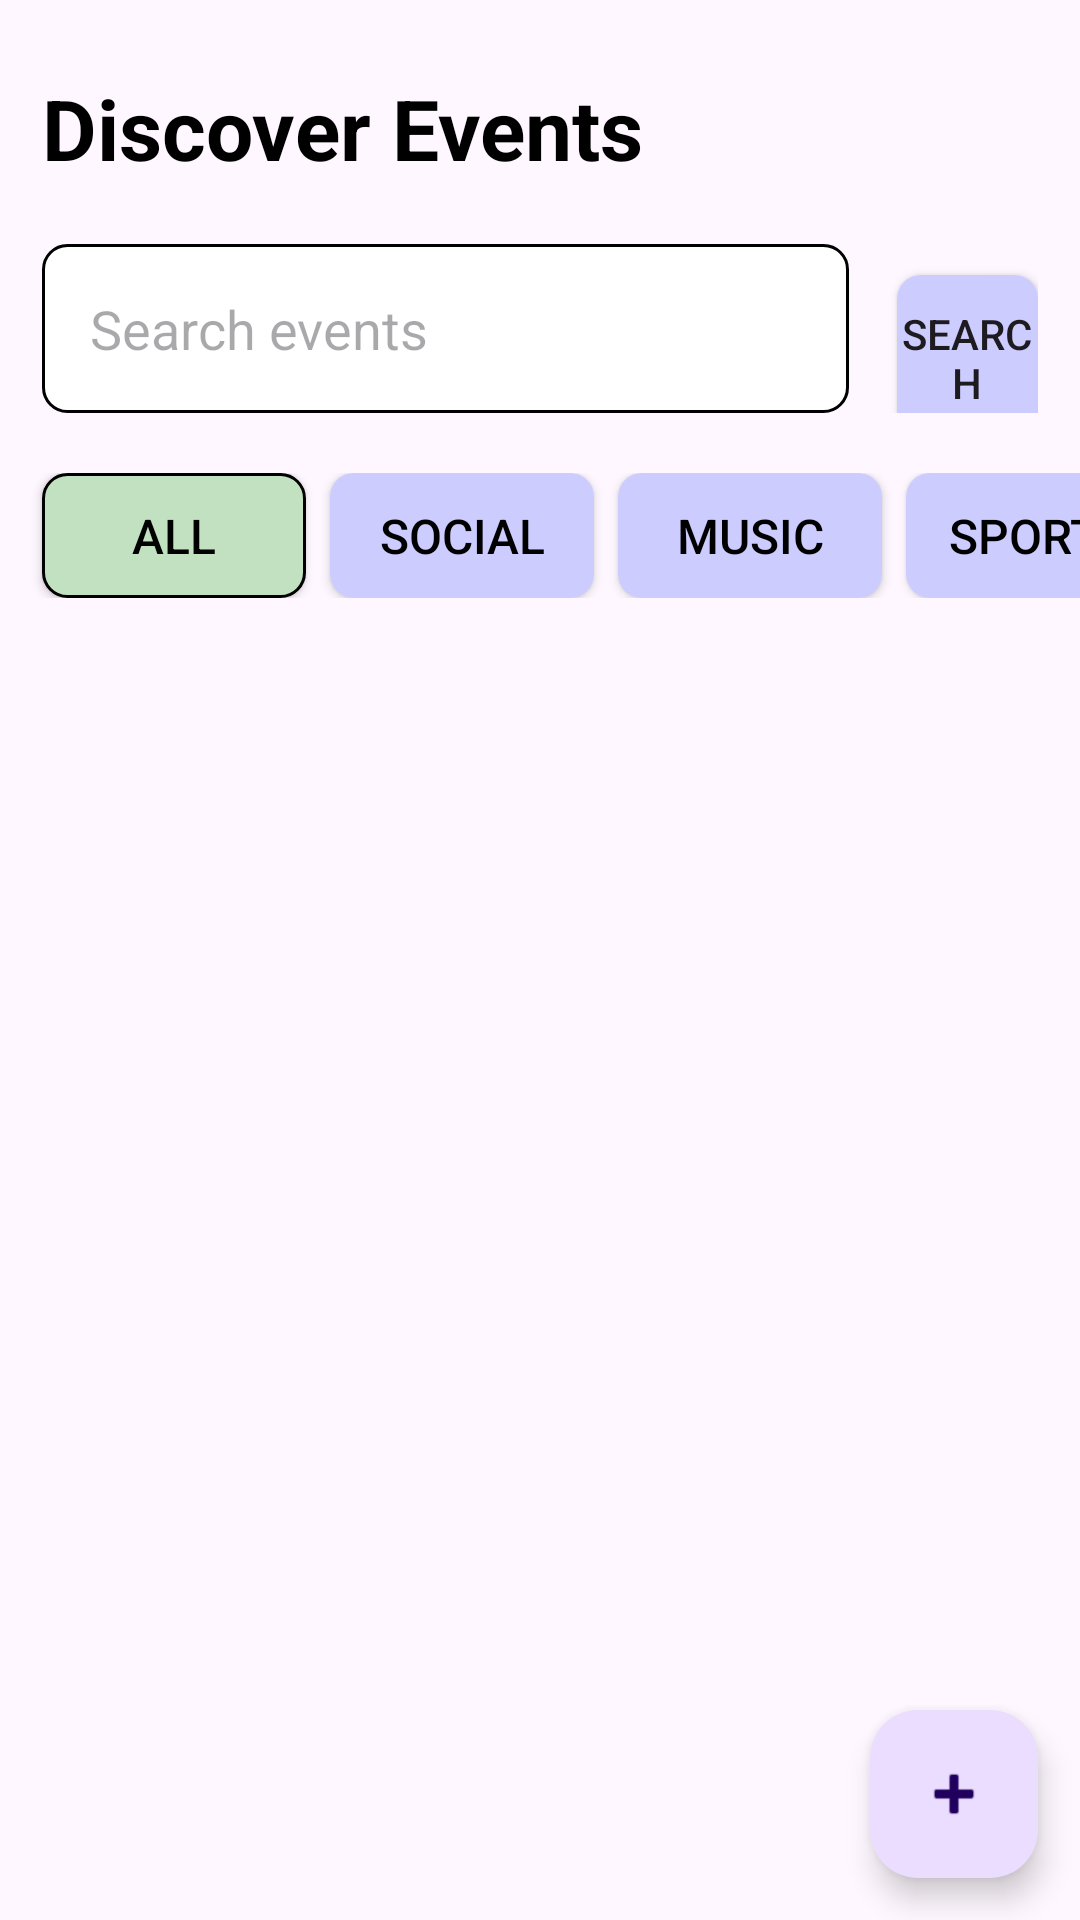

Screen size 1080x1920. Icon name, then its center in pixels as point (x, y):
add: point (954, 1794)
